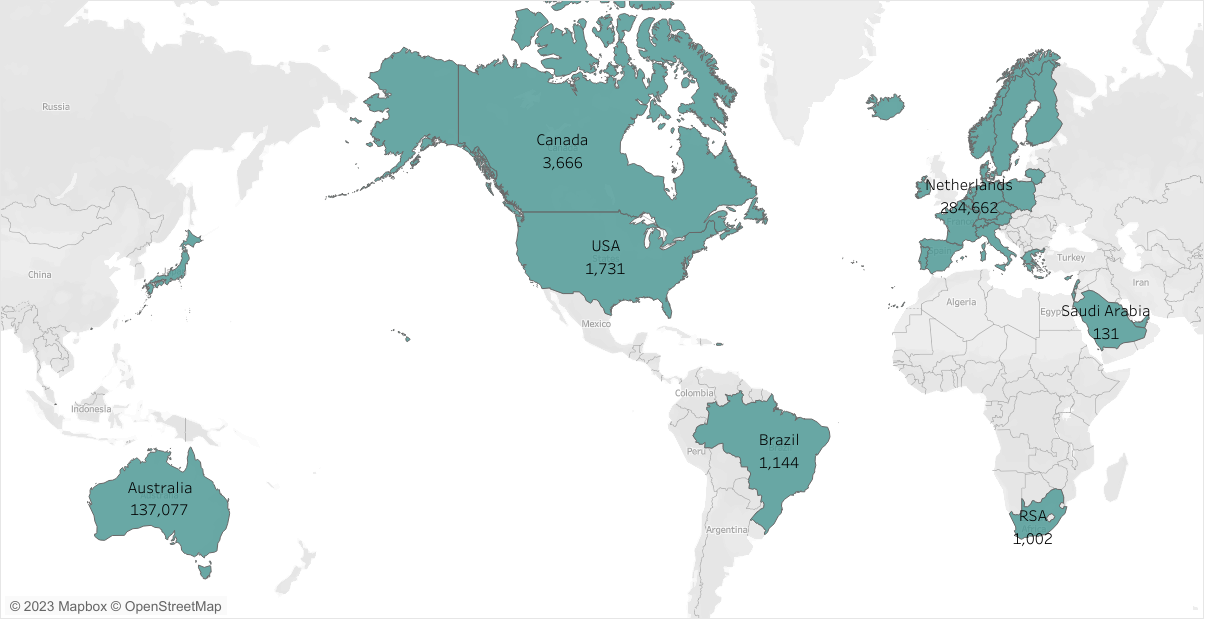

This screenshot's page, from the dashboard's own definition file:
{"tool":"powerbi","page":{"name":"Question4","canvas":[1280,720],"ordinal":3},"visuals":[{"type":"filledMap","fields":{"Category":["Online Retail.Country"]},"box":[17.2,58.6,744.8,403.4],"z":0}]}

Visuals, with their boxes on the page's 1280x720 design canvas (x1, y1, x2, y2). These are canvas units, not pixel positions in the 1205x620 screenshot, which may show the page scaled, cropped or inside an application window:
filledMap - Online Retail.Country: l=17, t=59, r=762, b=462
